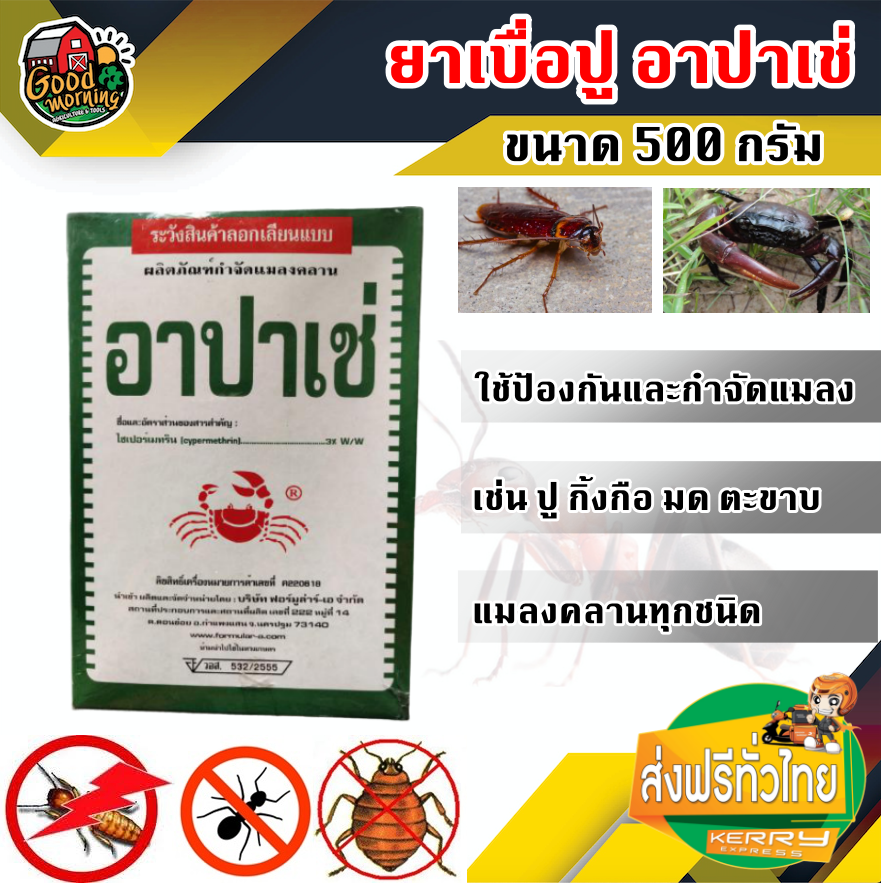Insecticide: (52, 198, 429, 730)
